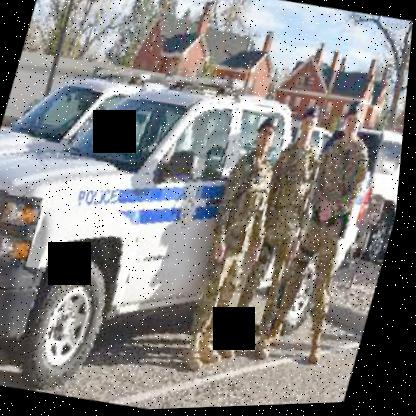emergency: (0, 45, 404, 415), (0, 42, 183, 221)
